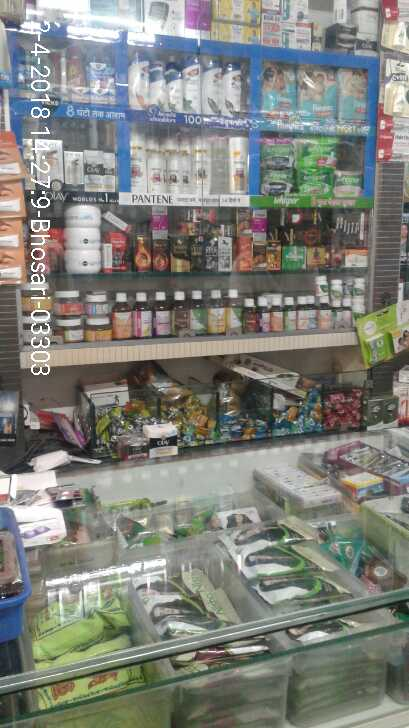vicks: (20, 58, 115, 101)
